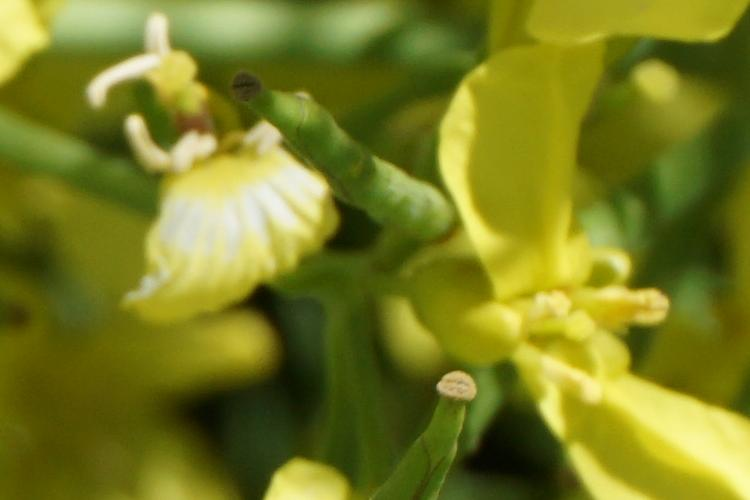pod: (242, 77, 485, 253), (288, 353, 504, 489)
yellow: (449, 41, 749, 496), (103, 43, 330, 295)
